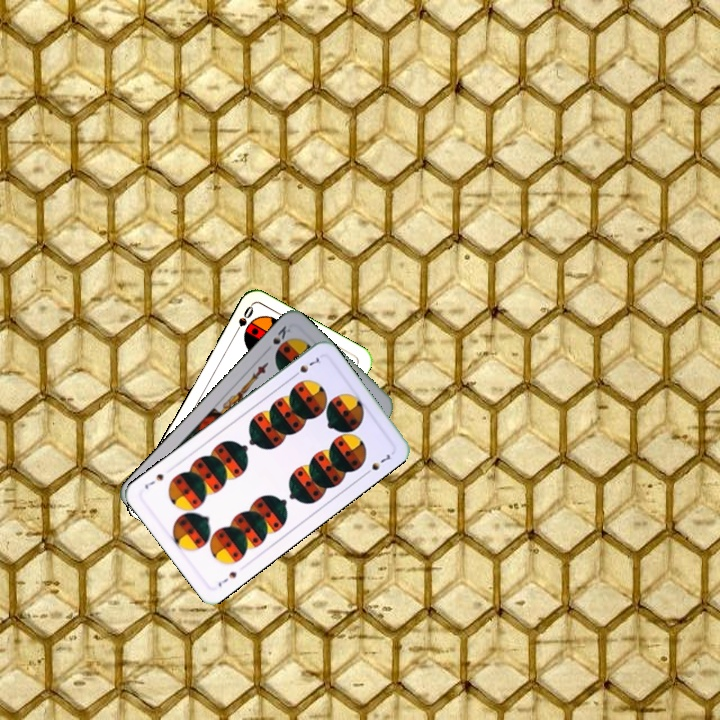S7: (288, 353, 324, 381), (214, 567, 239, 590)
SK: (261, 321, 293, 355)
SO: (230, 302, 256, 339)
